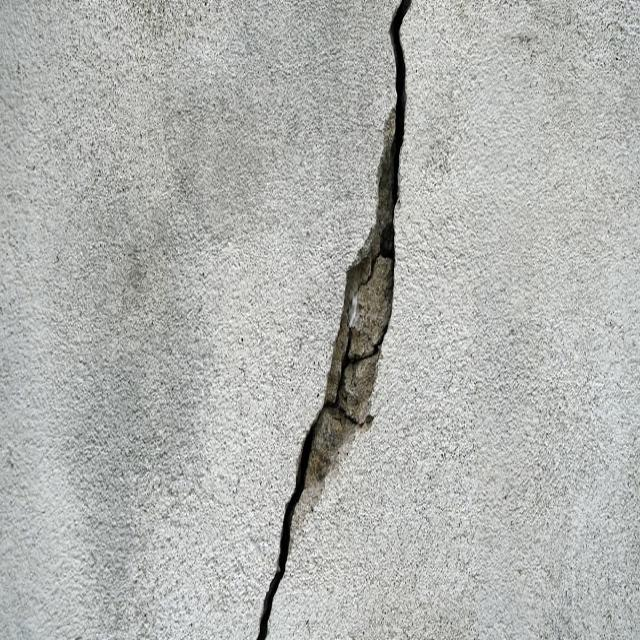Crack: (258, 0, 412, 639)
